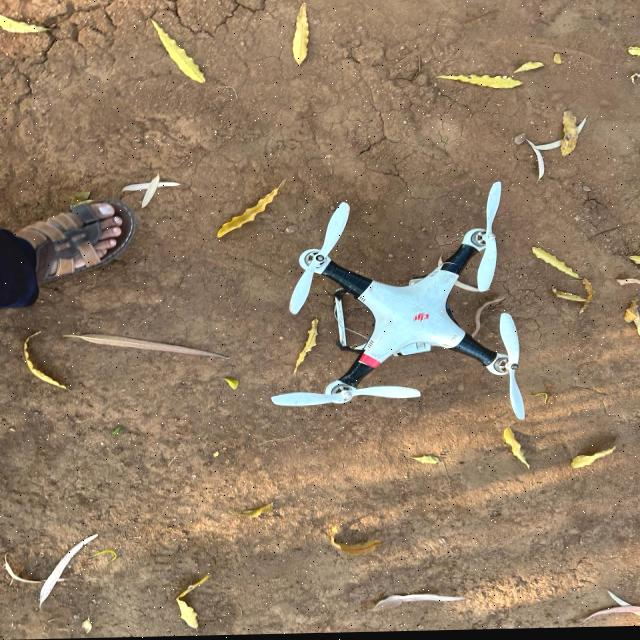drone: (185, 143, 607, 463)
